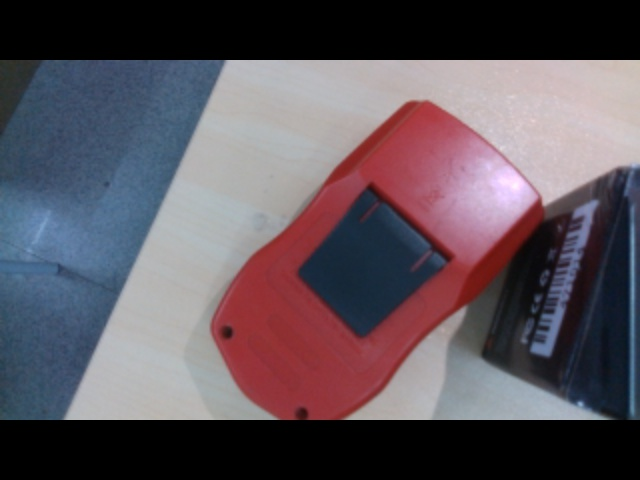Multimeter: (209, 98, 548, 419)
Screw holes: (219, 324, 233, 339), (293, 407, 311, 417)
